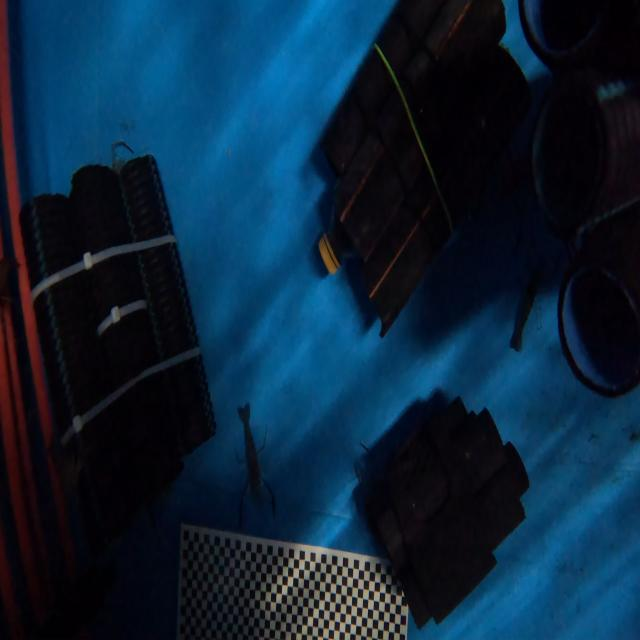prawn: (238, 404, 270, 498)
